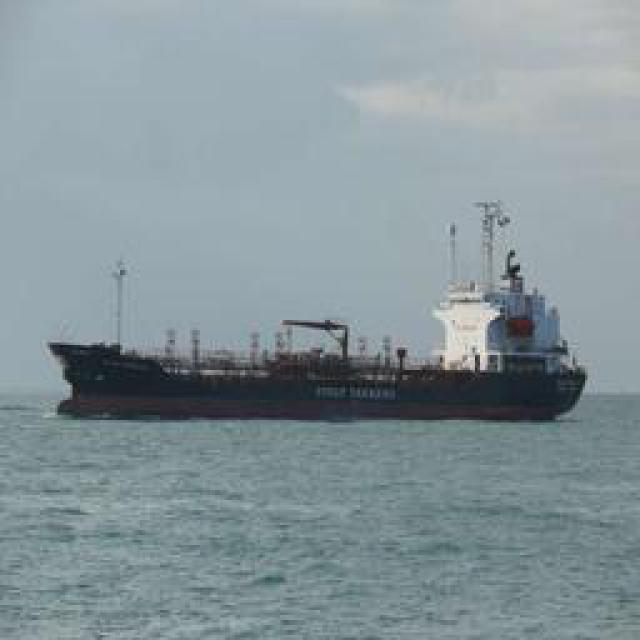Ship: (46, 210, 586, 428)
